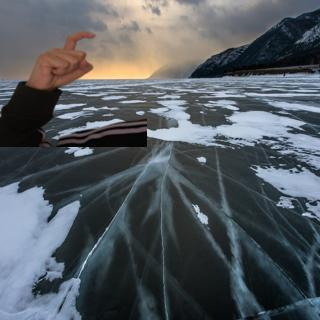WHY: (25, 27, 102, 91)
